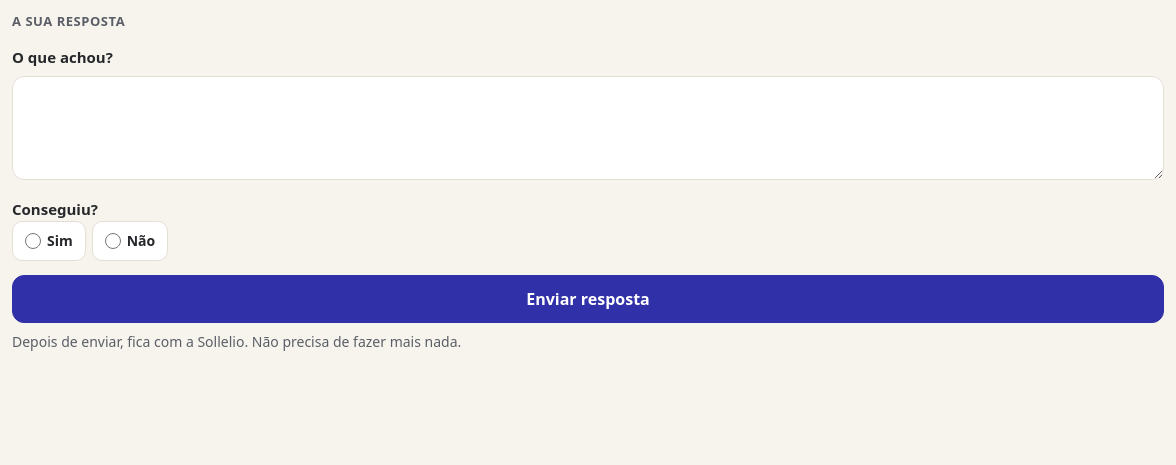
Test: initial round › a rejection keeps the answers and shows the server’s field errors
This screenshot has width=1176, height=465.
In the text box labelled "O que achou?": (588, 128) [12,76,1164,180], type "Bem."
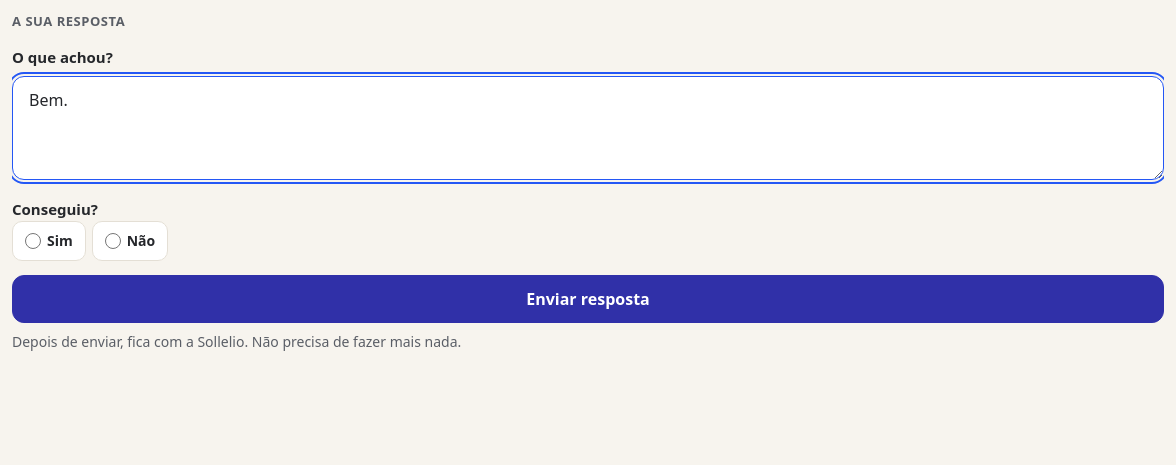
Click the radio button labelled "Sim": (33, 240) [25,232,41,248]
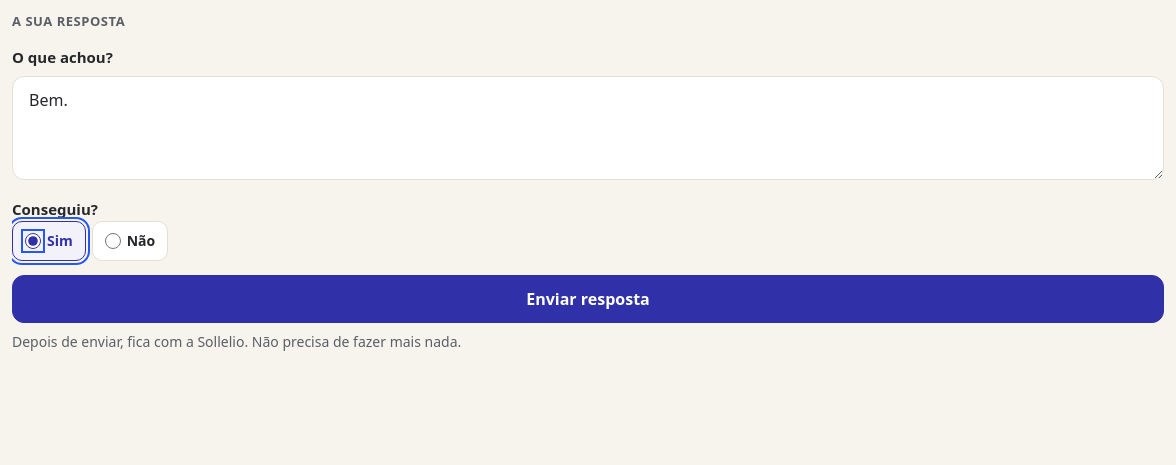
Click the button "Enviar resposta": (588, 298) [12,274,1164,322]
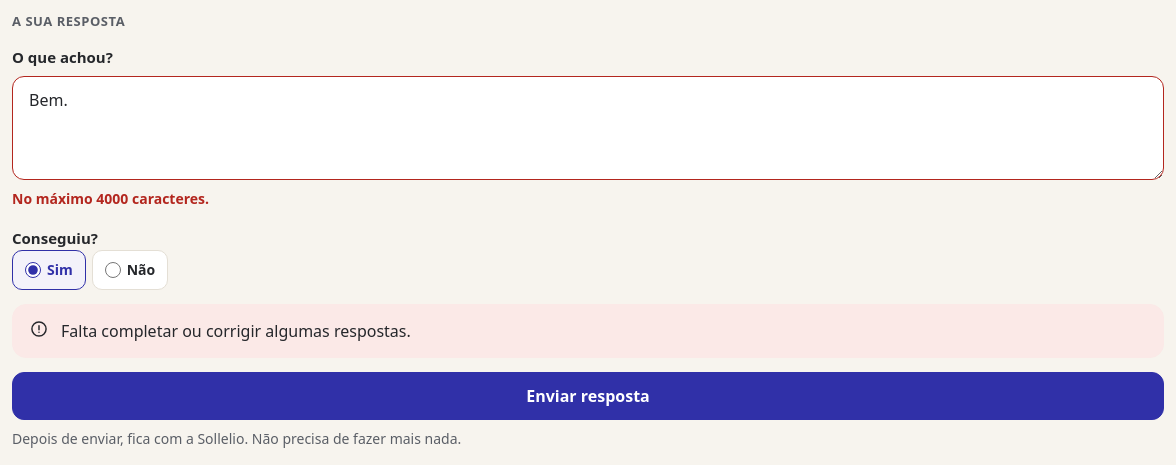
expect the button "Enviar resposta" is enabled: met, box [12,372,1164,420]
expect the text "No máximo 4000 caracteres." is shown: met, box [12,189,209,208]
